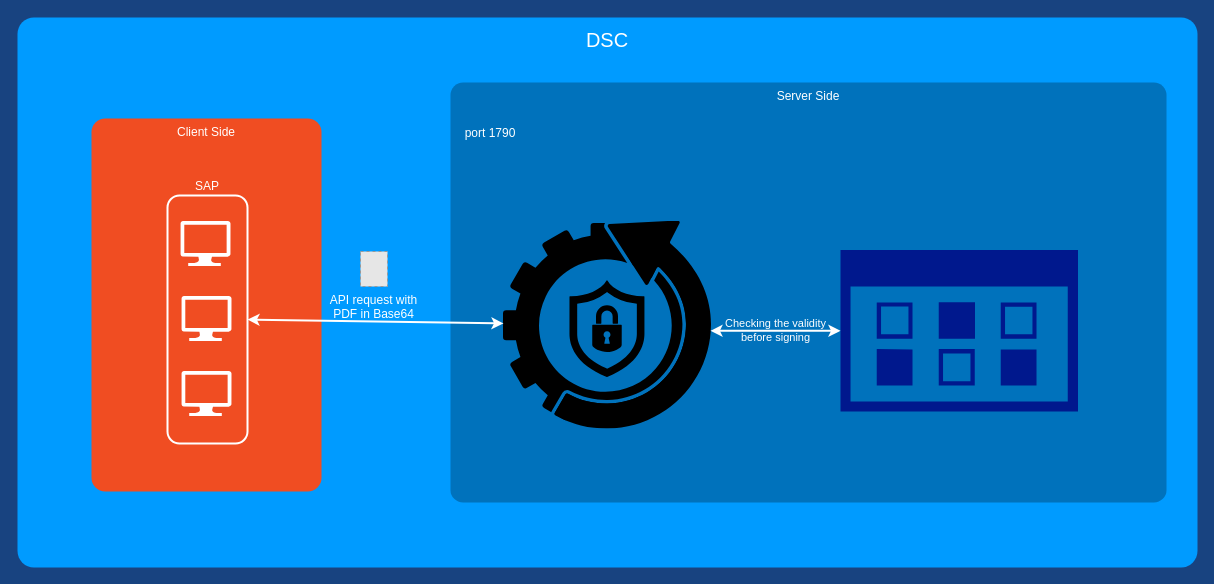
Some shapes in this 1214 by 584 pixel diagram are drawn without their labels. Grey dashed boxes stand in for pictures. The shapes that lost their labels are listed below. From the top down, each one's centre as x and y in pixels, then its label:
[607,324]: DSC API Utility
[959,330]: Certificate Management Console
